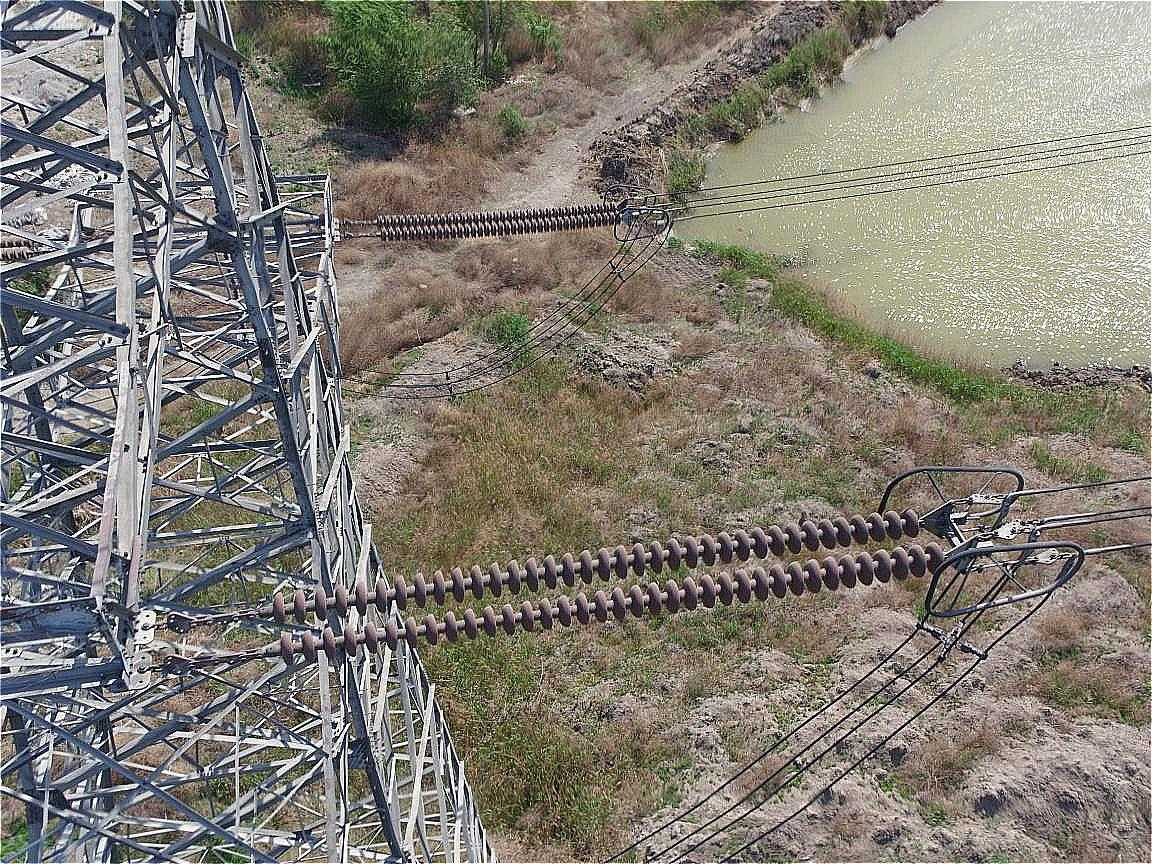insultor1: (247, 507, 968, 676)
insultor2: (365, 182, 634, 248)
